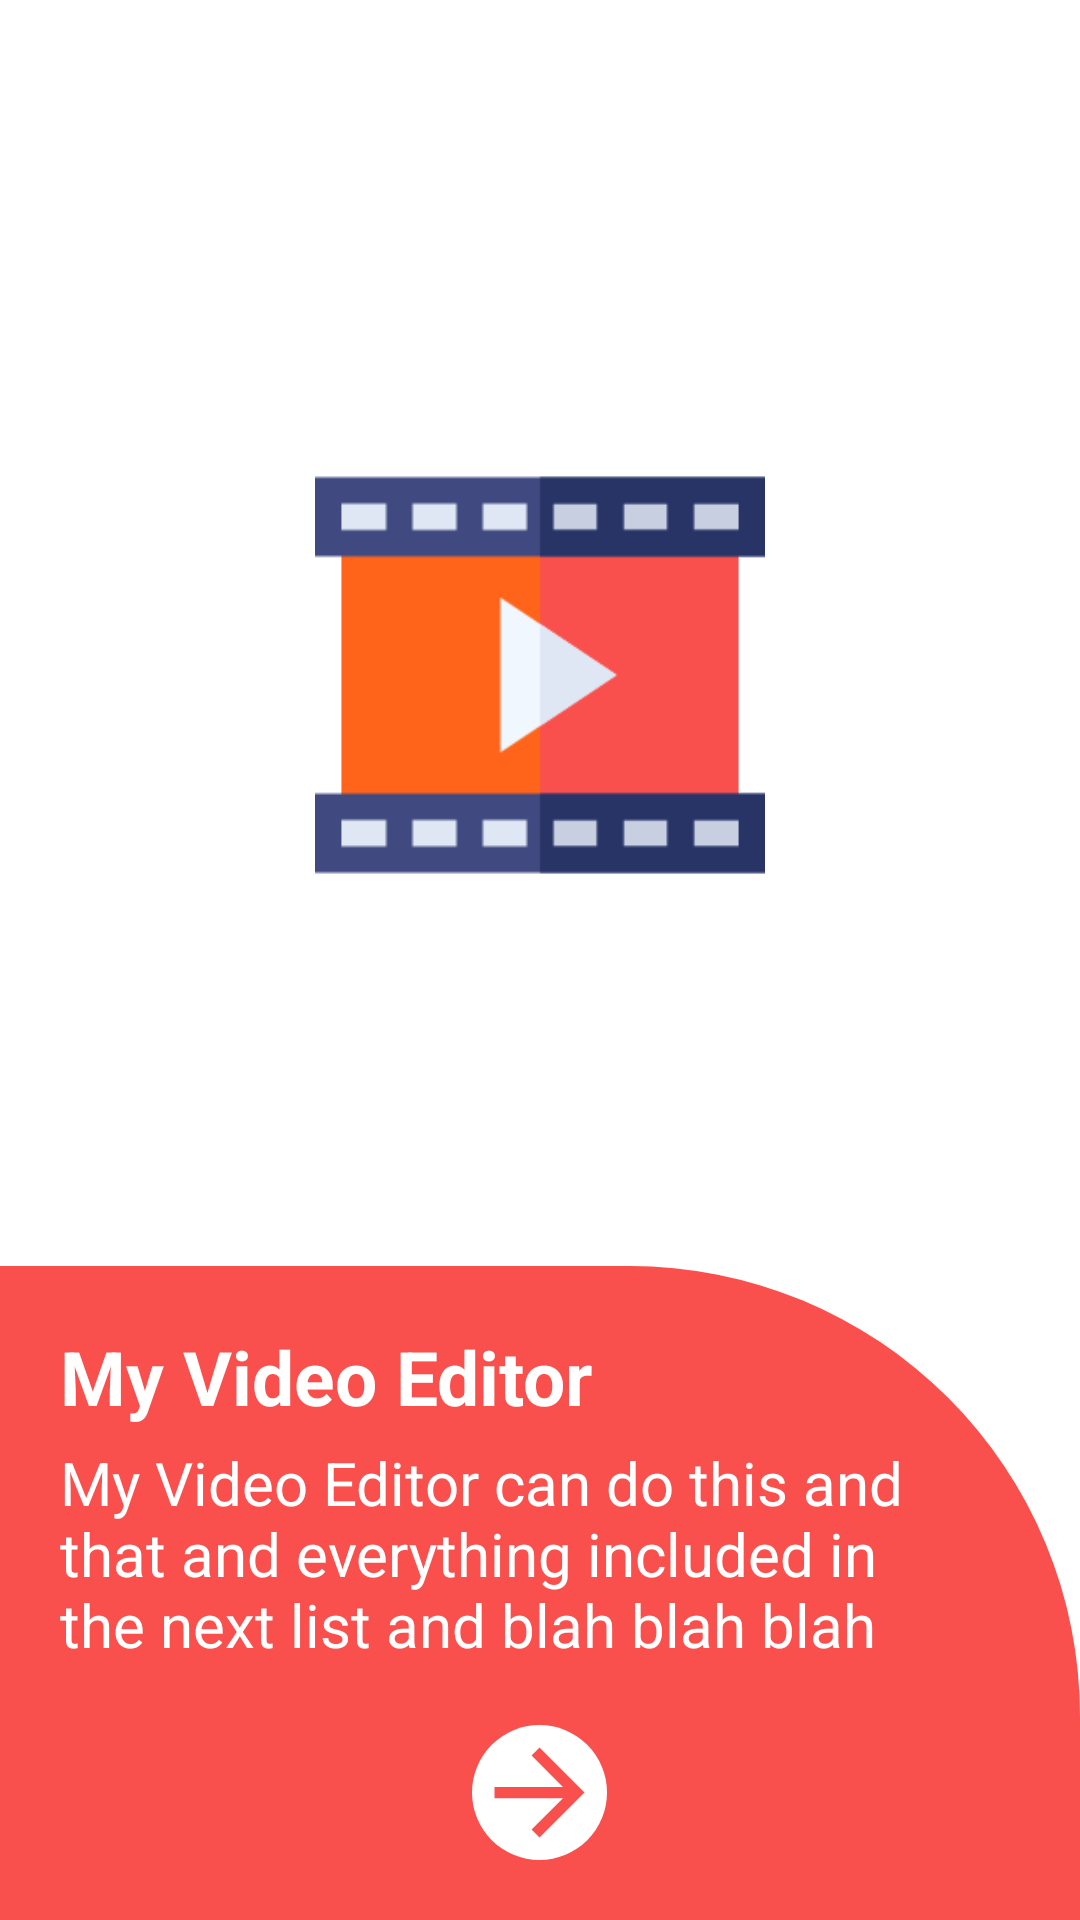

Where icons sit on this 1080 × 1920 app screen, as box=[x1, y1, x2, y2]:
arrow forward: box=[472, 1725, 607, 1860]
